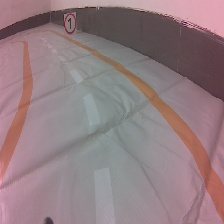limit: (61, 9, 79, 37)
